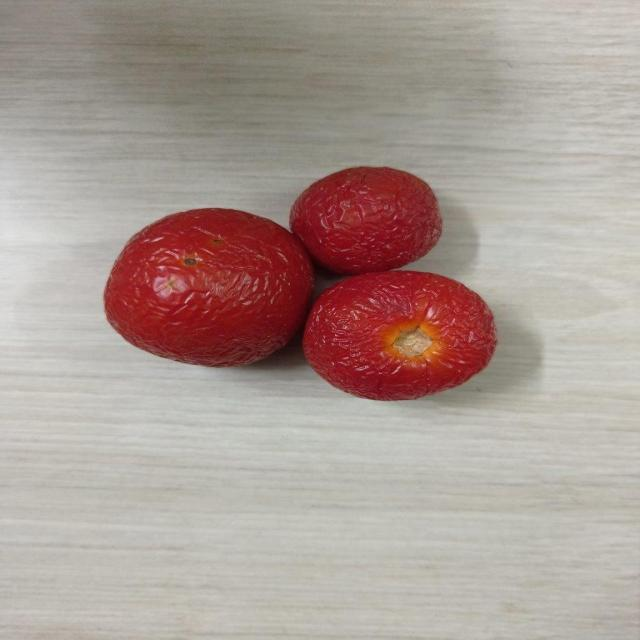overripe: (103, 206, 311, 371), (316, 269, 502, 402), (289, 162, 442, 273)
